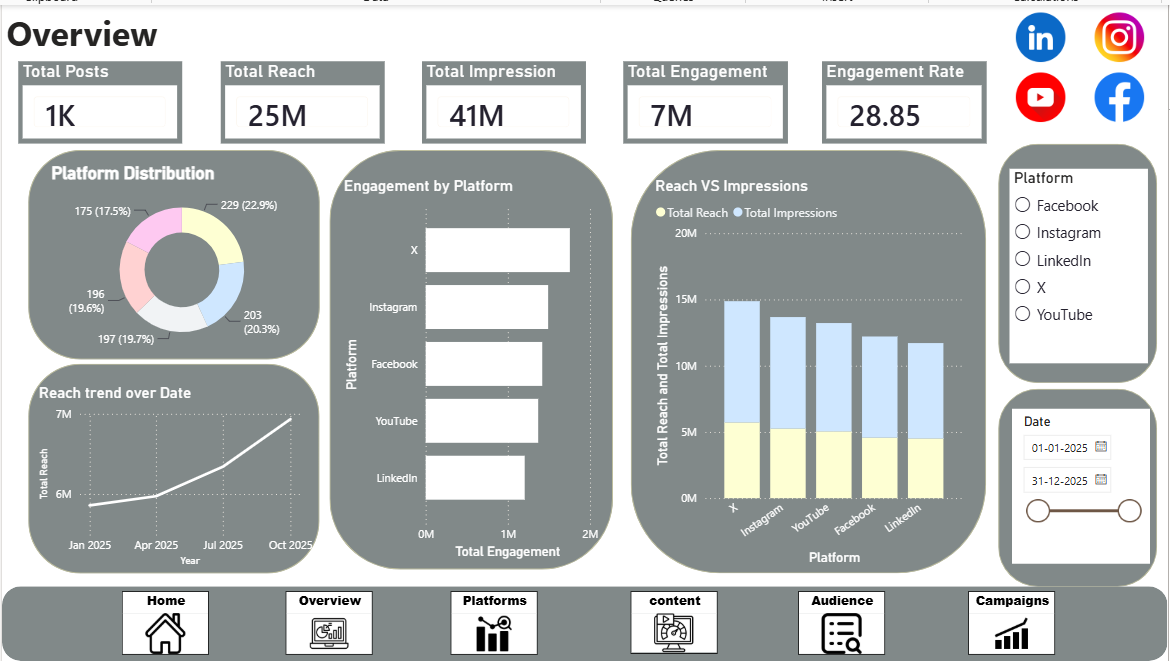

What the dashboard file says about the page in this screenshot:
{"tool":"powerbi","page":{"name":"Overview","canvas":[1280,720],"ordinal":1},"visuals":[{"type":"shape","box":[1094.2,420.9,174.4,217.4],"z":0},{"type":"shape","box":[1094.2,152.3,174.4,262.8],"z":1000},{"type":"shape","box":[690.8,159.8,390.1,464.7],"z":2000},{"type":"shape","box":[359.6,159.8,311.2,460.5],"z":3000},{"type":"shape","box":[28.4,394.3,319.6,230.3],"z":4000},{"type":"shape","box":[28.4,159.8,320,230],"z":5000},{"type":"shape","box":[0,638,1279.6,82],"z":6000},{"type":"image","title":"Home","box":[131.4,644.2,95.3,69.8],"z":7000},{"type":"image","title":"Overview","box":[311.6,644.2,95.3,69.8],"z":8000},{"type":"image","title":"Platforms","box":[493,644.2,95.3,69.8],"z":9000},{"type":"image","title":"content","box":[690.7,643,95.3,68.6],"z":10000},{"type":"image","title":"Campaigns","box":[1060.5,644.2,95.3,69.8],"z":11000},{"type":"image","title":"Audience","box":[874.4,644.2,95.3,69.8],"z":12000},{"type":"textbox","box":[0,0,197.7,61.6],"z":13000},{"type":"cardVisual","title":"Total Posts","fields":{"Data":["SocialMediaData.Total Posts"]},"box":[17.9,62,179.8,90.4],"z":14000},{"type":"cardVisual","title":"Engagement Rate","fields":{"Data":["SocialMediaData.Engagement rate"]},"box":[900,62,180.8,90.4],"z":15000},{"type":"cardVisual","title":"Total Engagement","fields":{"Data":["SocialMediaData.Total Engagement"]},"box":[681.3,62,180.8,90.4],"z":16000},{"type":"cardVisual","title":"Total Impression","fields":{"Data":["SocialMediaData.Total Impressions"]},"box":[460.5,62,179.8,90.4],"z":17000},{"type":"cardVisual","title":"Total Reach","fields":{"Data":["SocialMediaData.Total Reach"]},"box":[239.7,62,179.8,90.4],"z":18000},{"type":"lineChart","title":"Reach trend over Date","fields":{"Y":["SocialMediaData.Total Reach"],"Category":["SocialMediaData.Date.Variation.Date Hierarchy.Year","SocialMediaData.Date.Variation.Date Hierarchy.Quarter","SocialMediaData.Date.Variation.Date Hierarchy.Month","SocialMediaData.Date.Variation.Date Hierarchy.Day"]},"box":[35.7,415.3,310.2,205],"z":19000},{"type":"donutChart","title":"Platform Distribution","fields":{"Category":["SocialMediaData.Platform"],"Y":["CountNonNull(SocialMediaData.Post_ID)"]},"box":[49.4,172.4,296.5,214.5],"z":20000},{"type":"clusteredBarChart","title":"Engagement by Platform","fields":{"Y":["SocialMediaData.Total Engagement"],"Category":["SocialMediaData.Platform"]},"box":[370.1,188.2,289.1,424.8],"z":21000},{"type":"columnChart","title":"Reach VS Impressions ","fields":{"Y":["SocialMediaData.Total Reach","SocialMediaData.Total Impressions"],"Category":["SocialMediaData.Platform"]},"box":[712.9,188.2,348,432.1],"z":22000},{"type":"listSlicer","fields":{"Values":["SocialMediaData.Platform"]},"box":[1105.8,180.2,152.3,214],"z":23000},{"type":"slicer","fields":{"Values":["SocialMediaData.Date"]},"box":[1108.1,443,150,169.8],"z":24000},{"type":"image","box":[1097.7,8.1,84.9,54.7],"z":25000},{"type":"image","box":[1183.7,8.1,84.9,54.7],"z":26000},{"type":"image","box":[1097.7,74.4,84.9,54.7],"z":27000},{"type":"image","box":[1183.7,74.4,84.9,54.7],"z":28000}]}

Visuals, with their boxes in screenshot pixels (x1, y1, x2, y2), scaled from the page's 1280x720 canvas onto the 1170x661 screenshot:
shape: 1000:386:1160:586
shape: 1000:140:1160:381
shape: 631:147:988:573
shape: 329:147:613:569
shape: 26:362:318:573
shape: 26:147:318:358
shape: 0:586:1169:660
"Home" image: 120:591:207:655
"Overview" image: 285:591:372:655
"Platforms" image: 451:591:538:655
"content" image: 631:590:718:653
"Campaigns" image: 969:591:1056:655
"Audience" image: 799:591:886:655
textbox: 0:0:181:57
"Total Posts" cardVisual: 16:57:181:140
"Engagement Rate" cardVisual: 823:57:988:140
"Total Engagement" cardVisual: 623:57:788:140
"Total Impression" cardVisual: 421:57:585:140
"Total Reach" cardVisual: 219:57:383:140
"Reach trend over Date" lineChart: 33:381:316:569
"Platform Distribution" donutChart: 45:158:316:355
"Engagement by Platform" clusteredBarChart: 338:173:603:563
"Reach VS Impressions " columnChart: 652:173:970:569
listSlicer - SocialMediaData.Platform: 1011:165:1150:362
slicer - SocialMediaData.Date: 1013:407:1150:563
image: 1003:7:1081:58
image: 1082:7:1160:58
image: 1003:68:1081:119
image: 1082:68:1160:119
